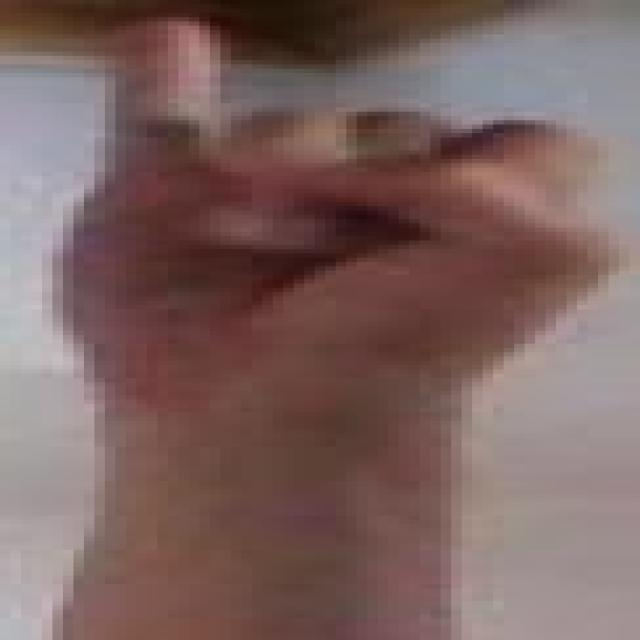I: (4, 1, 640, 386)
